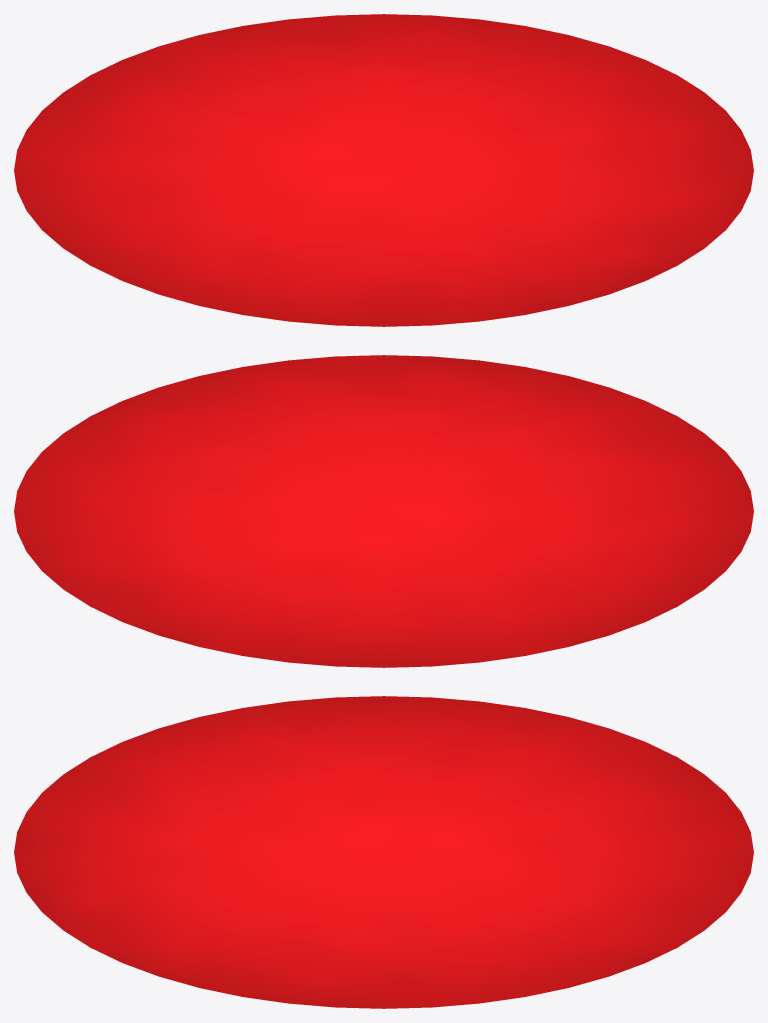
File: mm6_deco_barrel_liquid_red.glb
The picture shows the model from 3 angles, top to bottom: view 1: azimuth 30°, elevation 25°; view 2: azimuth 150°, elevation 25°; view 3: azimuth 270°, elevation 25°; orthographic projection.
Visible parts, largest first — view 1: Liquid; view 2: Liquid; view 3: Liquid.
Part boxes in pixels (box(x1,y1,x2,y2)): Liquid: box(14, 14, 753, 326); Liquid: box(14, 355, 753, 667); Liquid: box(14, 696, 753, 1008).
Bounding box in the file's own units: 0.529 × 0 × 0.529.
Materials: 1 (1 with a texture image).
